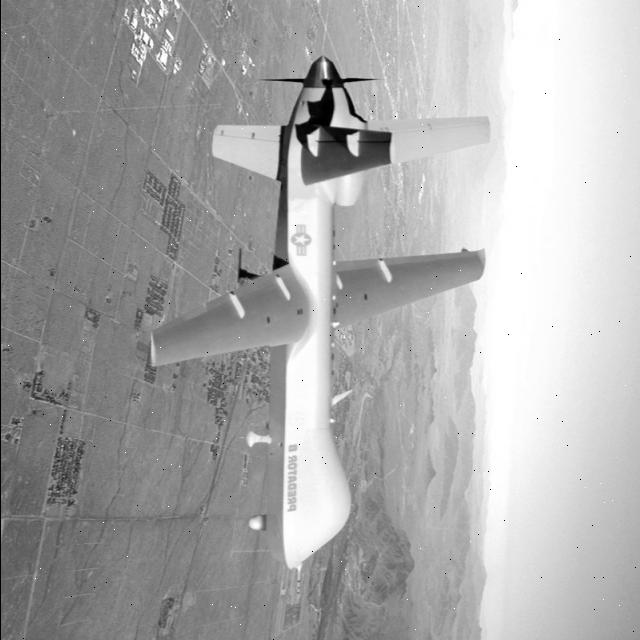MQ9: (123, 42, 534, 574)
